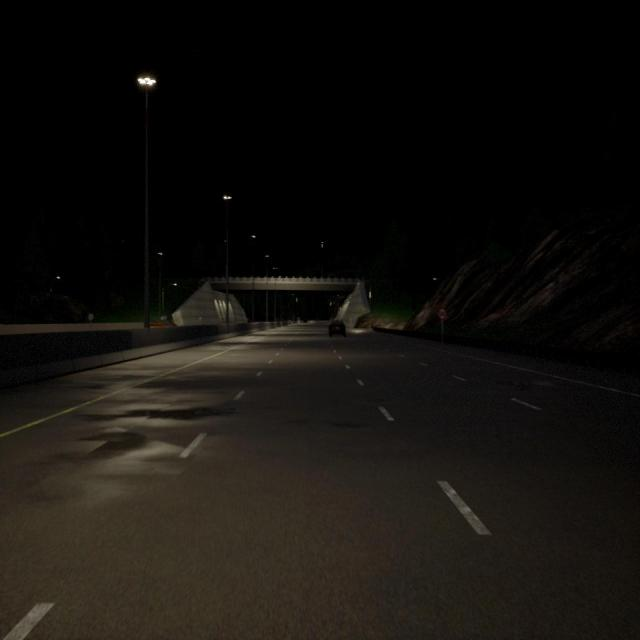Traffic_Signs: (438, 308, 446, 320), (88, 313, 94, 320)
Vehicle: (328, 319, 346, 337)
